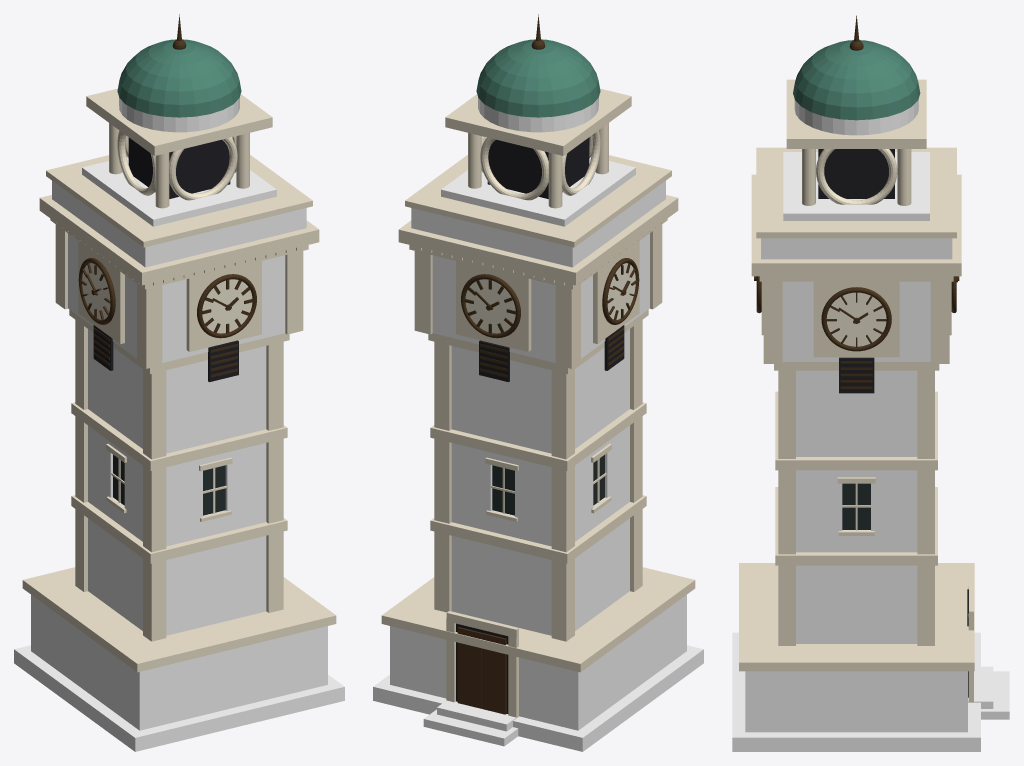
Rendered from menara-jam-blender-v1.glb.
The picture shows the model from 3 angles, left to right: view 1: azimuth 30°, elevation 25°; view 2: azimuth 150°, elevation 25°; view 3: azimuth 270°, elevation 25°; orthographic projection. The views are drawn at different scales.
Parts seen in each view (by area): view 1: Cube.002, Cube.011, Cube, Cube.023, Sphere, Cube.003, Torus, Cylinder, Cube.035; view 2: Cube.002, Cube.011, Cube, Cube.023, Sphere, Cube.003, Torus, Cube.004, Cylinder, Cube.035; view 3: Cube.002, Cube.023, Cube, Sphere, Cube.003, Torus, Cylinder, Cube.011, Cube.035.
Boxes of the visible parts, x1=… form: Cube.002: x1=22, y1=88, x2=336, y2=672; Cube.011: x1=52, y1=97, x2=306, y2=635; Cube: x1=14, y1=157, x2=344, y2=751; Cube.023: x1=56, y1=183, x2=142, y2=630; Sphere: x1=117, y1=39, x2=241, y2=117; Cube.003: x1=93, y1=137, x2=238, y2=382; Torus: x1=78, y1=14, x2=256, y2=377; Cylinder: x1=82, y1=263, x2=252, y2=333; Cube.035: x1=113, y1=455, x2=225, y2=515; Cube.002: x1=381, y1=88, x2=695, y2=717; Cube.011: x1=411, y1=97, x2=665, y2=635; Cube: x1=373, y1=157, x2=703, y2=751; Cube.023: x1=575, y1=183, x2=661, y2=630; Sphere: x1=476, y1=39, x2=600, y2=117; Cube.003: x1=456, y1=137, x2=624, y2=713; Torus: x1=461, y1=14, x2=639, y2=377; Cube.004: x1=457, y1=627, x2=506, y2=714; Cylinder: x1=465, y1=263, x2=635, y2=333; Cube.035: x1=492, y1=455, x2=604, y2=515; Cube.002: x1=739, y1=79, x2=974, y2=702; Cube.023: x1=761, y1=238, x2=952, y2=643; Cube: x1=732, y1=152, x2=1009, y2=751; Sphere: x1=793, y1=40, x2=920, y2=120; Cube.003: x1=818, y1=149, x2=968, y2=697; Torus: x1=754, y1=15, x2=959, y2=388; Cylinder: x1=826, y1=292, x2=886, y2=346; Cube.011: x1=794, y1=99, x2=918, y2=135; Cube.035: x1=842, y1=483, x2=870, y2=529.
Size of the model in its own units: 7.8 by 23.75 by 8.7.
